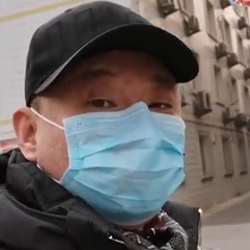mask: (59, 101, 189, 215)
